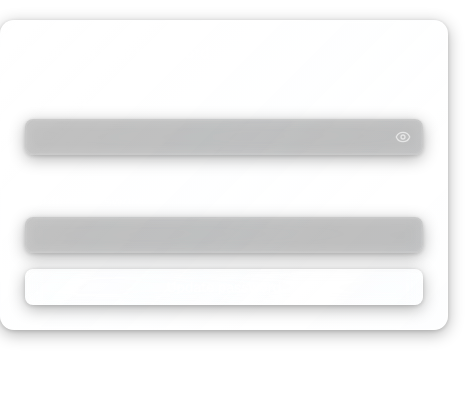
it: ResetPasswordPage › rejects mismatched passwords without calling the API
Type "NewPassword1" into the password field labelled "New password" at (224, 137), box [25, 119, 423, 155]
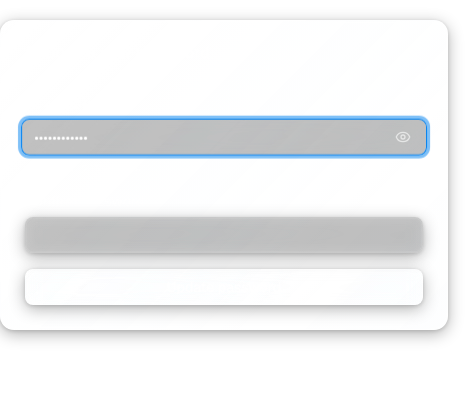
Type "Different1" into the password field labelled "Confirm password" at (224, 235), box [25, 217, 423, 253]
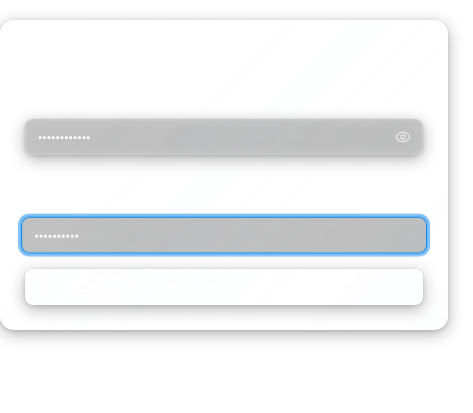
Click the button "Update password" at (224, 287), box [25, 269, 423, 305]
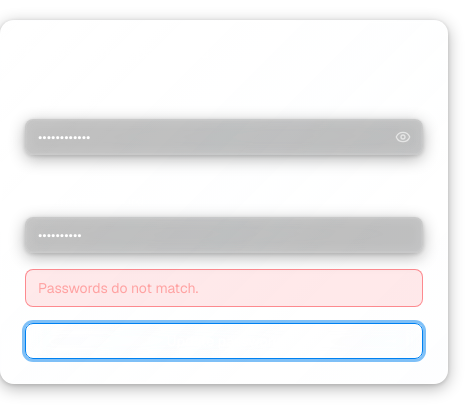
expect the text "Passwords do not match." is shown: met, box [25, 269, 423, 307]
